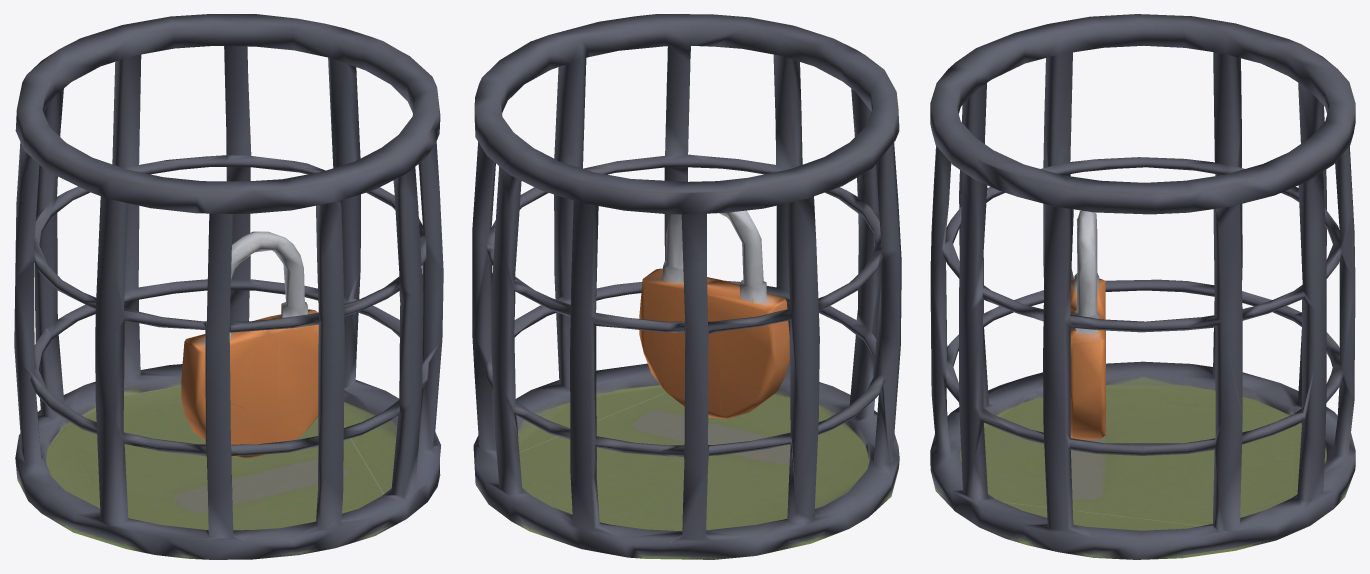
The model's file is iron_cage.glb.
The picture shows the model from 3 angles, left to right: view 1: azimuth 30°, elevation 25°; view 2: azimuth 150°, elevation 25°; view 3: azimuth 270°, elevation 25°; orthographic projection.
Size of the model in its own units: 1.9 by 1.8 by 1.9.
Materials: 1 (1 with a texture image).
